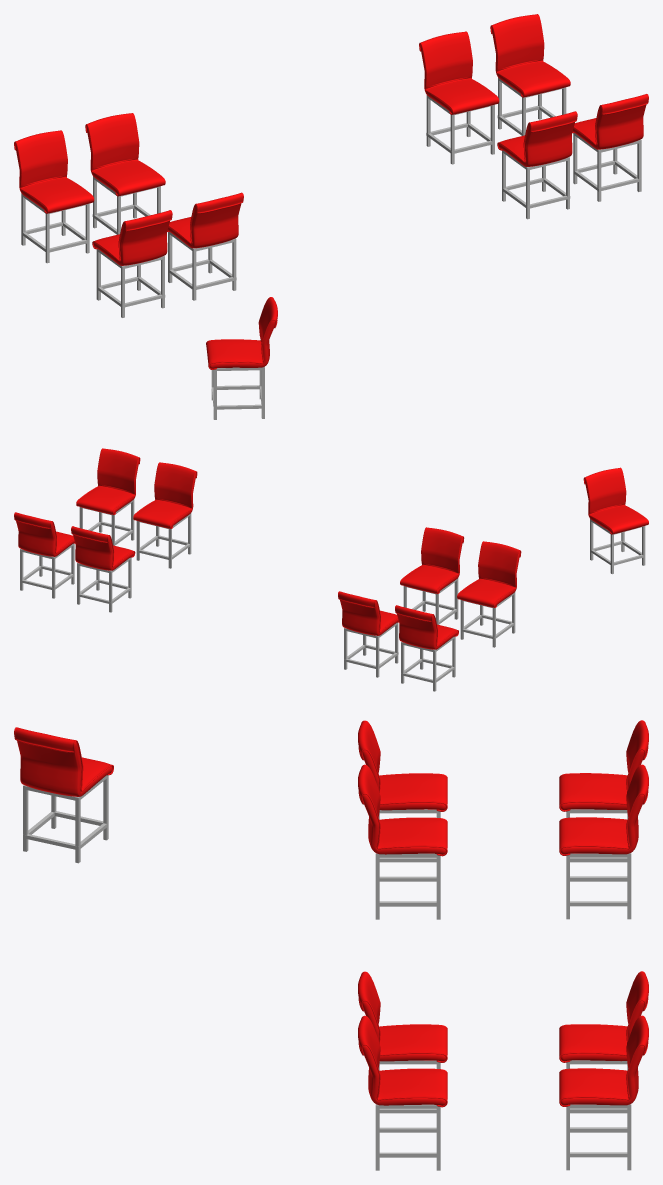
The model's file is CN Global Counter_chair.FBX.
The picture shows the model from 3 angles, top to bottom: view 1: azimuth 30°, elevation 25°; view 2: azimuth 150°, elevation 25°; view 3: azimuth 270°, elevation 25°; orthographic projection. The views are drawn at different scales.
Parts seen in each view (by area): view 1: CN Global Counter_chair004, CN Global Counter_chair006, CN Global Counter_chair007, CN Global Counter_chair005, CN Global Counter_chair002, CN Global Counter_chair001, CN Global Counter_chair, CN Global Counter_chair003, CN Global Counter_chair008; view 2: CN Global Counter_chair003, CN Global Counter_chair, CN Global Counter_chair008, CN Global Counter_chair001, CN Global Counter_chair002, CN Global Counter_chair006, CN Global Counter_chair004, CN Global Counter_chair007, CN Global Counter_chair005; view 3: CN Global Counter_chair008, CN Global Counter_chair001, CN Global Counter_chair002, CN Global Counter_chair005, CN Global Counter_chair007, CN Global Counter_chair004, CN Global Counter_chair006, CN Global Counter_chair, CN Global Counter_chair003.
Part boxes in pixels (x1,y1,x2,y2): CN Global Counter_chair004: (14,130,94,263); CN Global Counter_chair006: (419,31,499,164); CN Global Counter_chair007: (490,14,570,135); CN Global Counter_chair005: (85,113,165,234); CN Global Counter_chair002: (572,94,648,201); CN Global Counter_chair001: (167,192,243,300); CN Global Counter_chair: (92,210,172,317); CN Global Counter_chair003: (497,111,577,219); CN Global Counter_chair008: (206,297,277,419); CN Global Counter_chair003: (133,462,197,568); CN Global Counter_chair: (457,541,521,647); CN Global Counter_chair008: (583,467,648,574); CN Global Counter_chair001: (400,527,464,624); CN Global Counter_chair002: (76,448,140,545); CN Global Counter_chair006: (71,526,135,612); CN Global Counter_chair004: (395,605,458,691); CN Global Counter_chair007: (14,512,75,598); CN Global Counter_chair005: (338,591,398,677); CN Global Counter_chair008: (14,727,113,863); CN Global Counter_chair001: (358,764,447,919); CN Global Counter_chair002: (358,1015,447,1170); CN Global Counter_chair005: (559,764,648,919); CN Global Counter_chair007: (559,1015,648,1170); CN Global Counter_chair004: (559,720,648,862); CN Global Counter_chair006: (559,971,648,1113); CN Global Counter_chair: (358,720,447,862); CN Global Counter_chair003: (358,971,447,1113).
Size of the model in its own units: 221 by 37.91 by 170.
